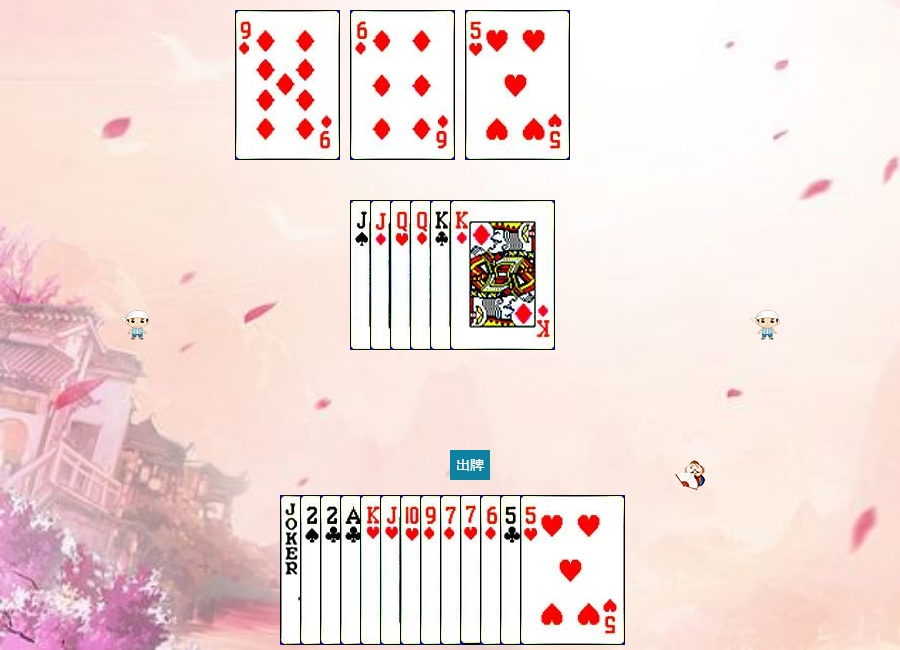10~3: (400, 495, 505, 645)
11~1: (370, 200, 475, 350)
11~3: (380, 495, 485, 645)
11~4: (350, 200, 455, 350)
12~1: (410, 200, 515, 350)
12~3: (390, 200, 495, 350)
13~1: (450, 200, 555, 350)
13~2: (430, 200, 535, 350)
13~3: (360, 495, 465, 645)
14~2: (340, 495, 445, 645)
15~2: (320, 495, 425, 645)
15~4: (300, 495, 405, 645)
17~3: (280, 495, 385, 645)
5~2: (500, 495, 605, 645)
5~3: (465, 10, 570, 160), (520, 495, 625, 645)
6~1: (350, 10, 455, 160), (480, 495, 585, 645)
7~1: (440, 495, 545, 645)
7~3: (460, 495, 565, 645)
9~1: (235, 10, 340, 160), (420, 495, 525, 645)
